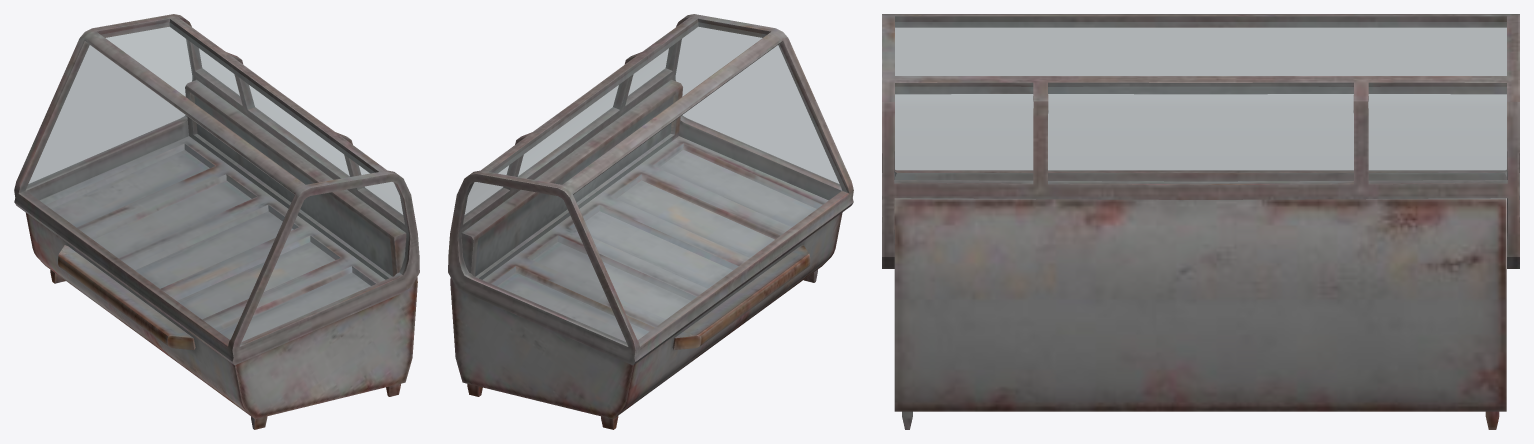
File: SM_ShopCooler.glb
3 renders of one model, left to right at view 1: azimuth 30°, elevation 25°; view 2: azimuth 150°, elevation 25°; view 3: azimuth 270°, elevation 25°, orthographic. The views are drawn at different scales.
Parts seen in each view (by area): view 1: SM_ShopCooler; view 2: SM_ShopCooler; view 3: SM_ShopCooler.
Part boxes in pixels (x1,y1,x2,y2): SM_ShopCooler: (14,14,419,429); SM_ShopCooler: (448,14,853,429); SM_ShopCooler: (882,14,1519,429).
Size of the model in its own units: 1.92 by 2.16 by 3.63.
Materials: 2 (1 with a texture image).
